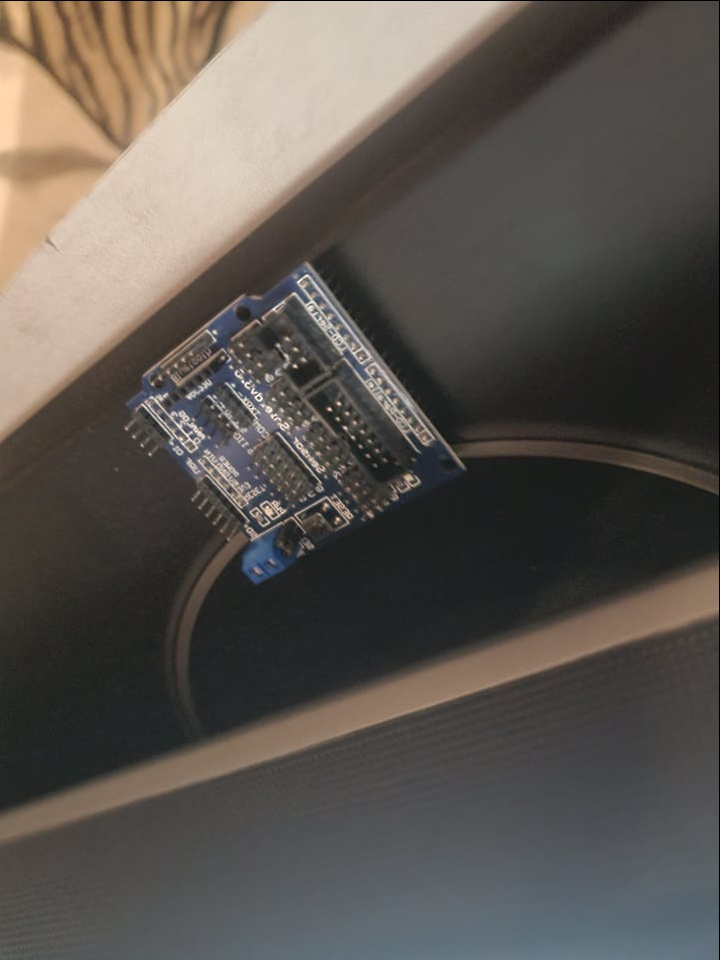5V EXPANSION: (122, 256, 473, 583)
